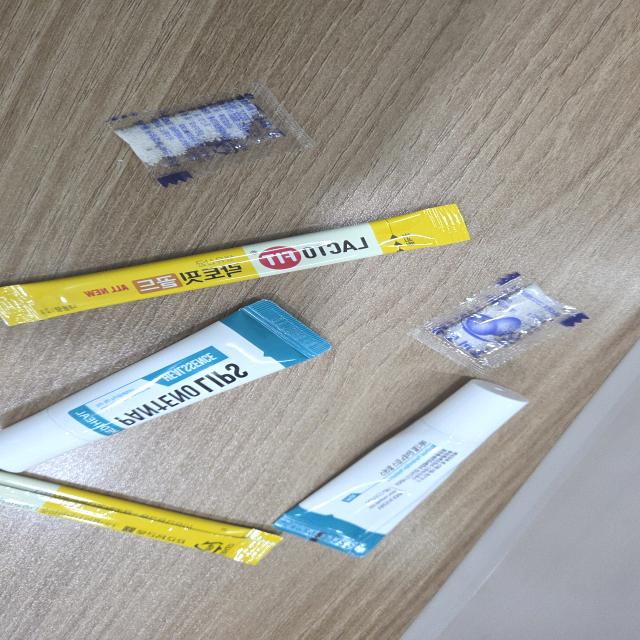lacto: (1, 203, 471, 327), (2, 472, 283, 566)
lib: (0, 296, 334, 474), (270, 377, 547, 555)
salt: (101, 76, 318, 191), (404, 272, 594, 373)
